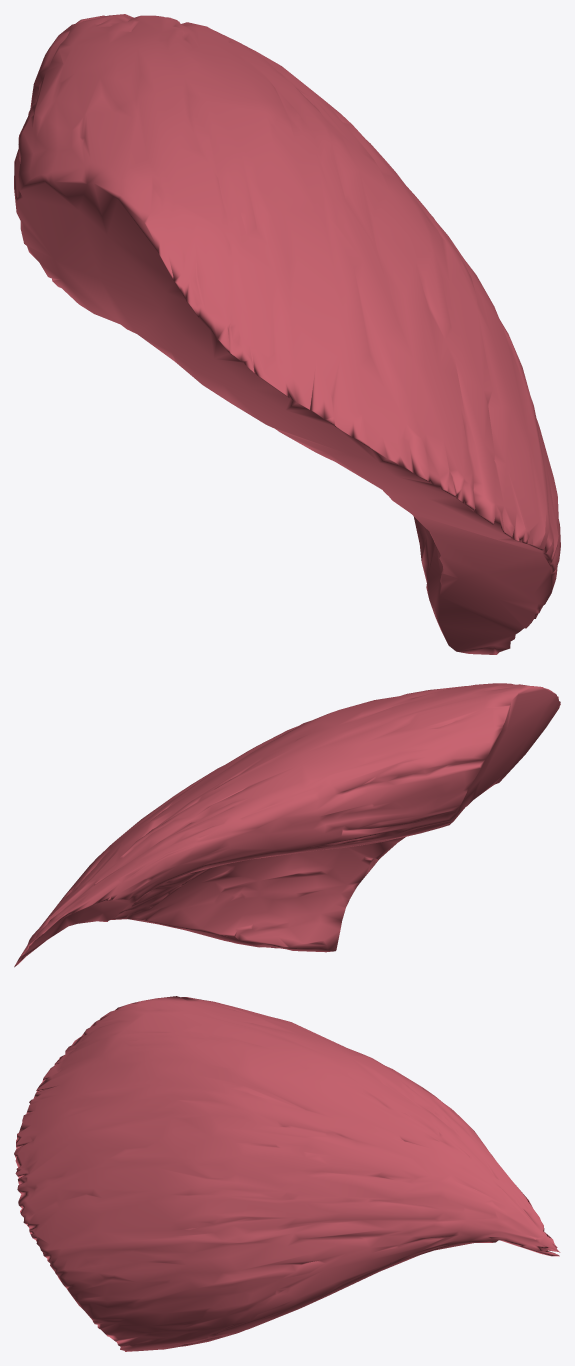
3 views of the same model, one above another, from view 1: azimuth 30°, elevation 25°; view 2: azimuth 150°, elevation 25°; view 3: azimuth 270°, elevation 25° (orthographic). The views are drawn at different scales.
Parts seen in each view (by area): view 1: 左侧臀中肌; view 2: 左侧臀中肌; view 3: 左侧臀中肌.
Part boxes in pixels (x1,y1,x2,y2): 左侧臀中肌: [14, 14, 560, 654]; 左侧臀中肌: [14, 683, 560, 967]; 左侧臀中肌: [14, 996, 560, 1351].
Bounding box in the file's own units: 0.1313 × 0.135 × 0.2476.
